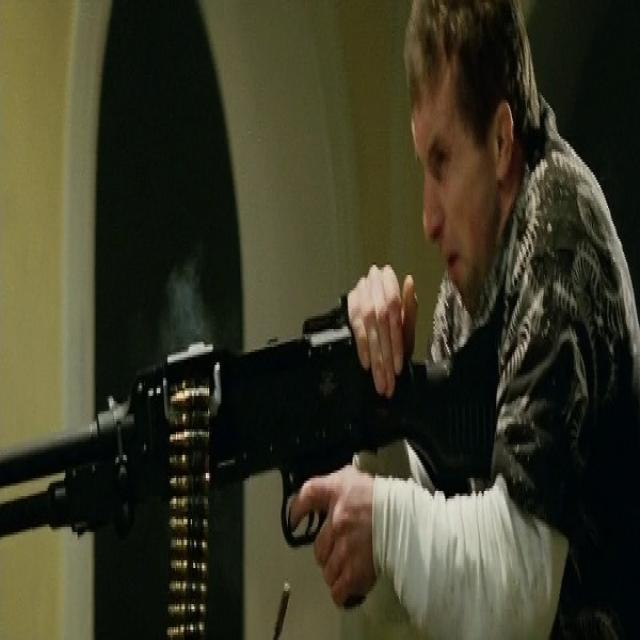rifle: (3, 290, 507, 556)
